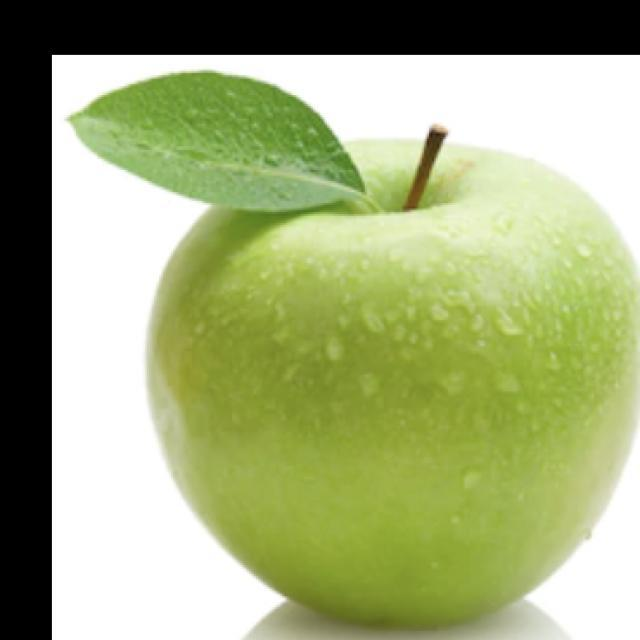Fresh Apple: (173, 128, 640, 633)
